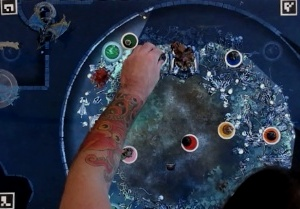blue: (223, 48, 246, 68)
green: (121, 30, 141, 50)
orange: (262, 124, 284, 145)
pink: (121, 143, 141, 164)
red: (180, 130, 200, 154)
violet: (154, 50, 170, 67)
yellow: (216, 120, 239, 140)
